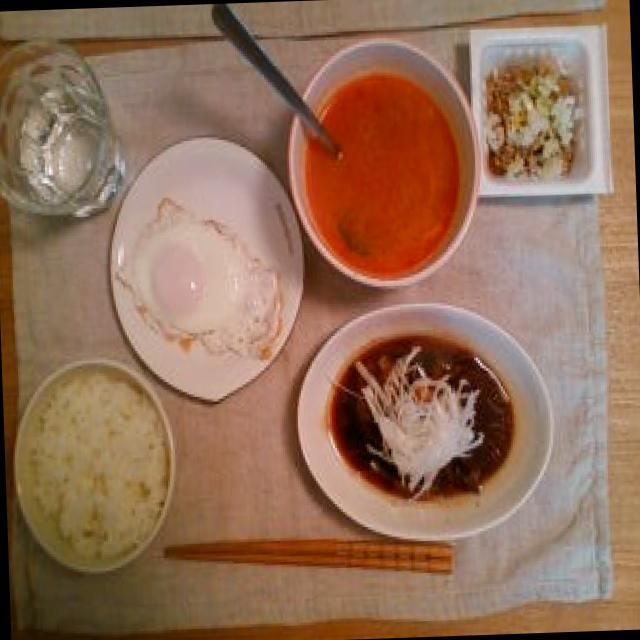Egg: (117, 199, 285, 366)
Rice: (23, 372, 166, 558)
